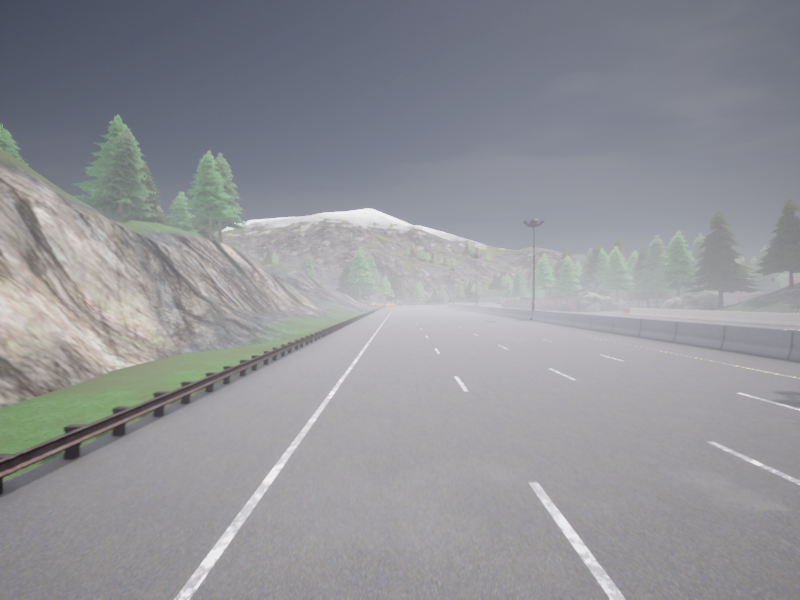vehicle: (497, 302, 501, 304)
